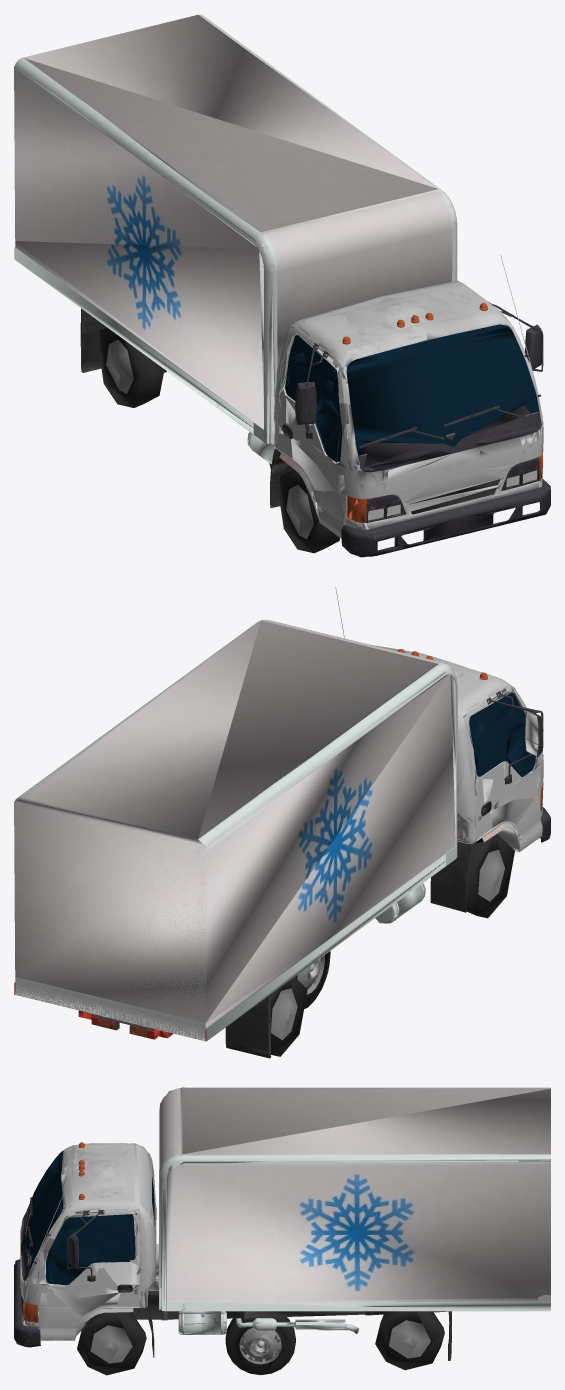
File: truck3.glb
3 renders of one model, top to bottom at view 1: azimuth 30°, elevation 25°; view 2: azimuth 150°, elevation 25°; view 3: azimuth 270°, elevation 25°, orthographic. The views are drawn at different scales.
Visible parts, largest first — view 1: body2, body1, body0; view 2: body2, body0, body1, wheel1; view 3: body2, body0, body1, wheel0, wheel1.
Boxes of the visible parts, x1,y1,x2,y2 form: body2: [14, 15, 550, 557]; body1: [14, 14, 549, 556]; body0: [15, 14, 550, 555]; body2: [14, 620, 550, 1057]; body0: [14, 586, 550, 1058]; body1: [14, 592, 550, 1054]; wheel1: [295, 951, 330, 1005]; body2: [15, 1087, 550, 1375]; body0: [14, 1087, 550, 1360]; body1: [14, 1087, 550, 1359]; wheel0: [225, 1317, 295, 1374]; wheel1: [226, 1317, 295, 1375].
Bounding box in the file's own units: 2.68 × 3.41 × 6.6.
Materials: 5 (1 with a texture image).
